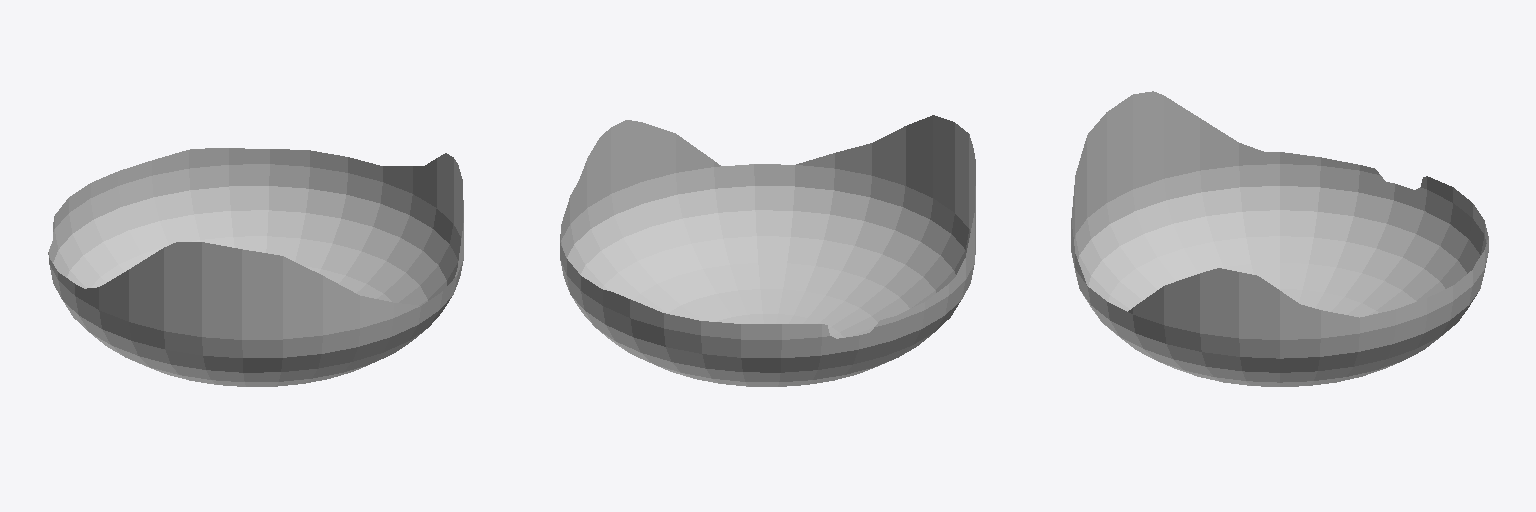
Rendered from SM_Terrain_UnderTutoAdvanced_1.1.obj.
The picture shows the model from 3 angles: view 1: azimuth 30°, elevation 25°; view 2: azimuth 150°, elevation 25°; view 3: azimuth 270°, elevation 25°; orthographic projection.
Parts seen in each view (by area): view 1: Sphere.001; view 2: Sphere.001; view 3: Sphere.001.
Boxes of the visible parts, box(x1,y1,x2,y2) form: Sphere.001: box(48, 148, 463, 386); Sphere.001: box(560, 115, 975, 386); Sphere.001: box(1071, 91, 1488, 386).
Bounding box in the file's own units: 198 × 104 × 198.